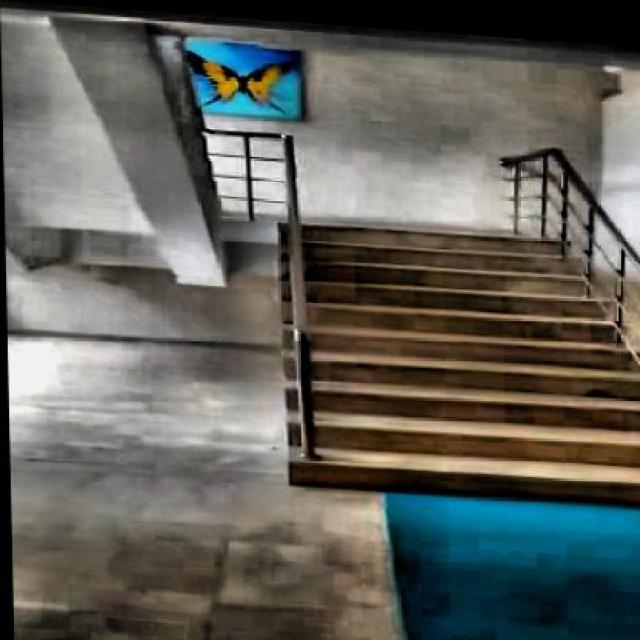stair: (271, 212, 638, 503)
